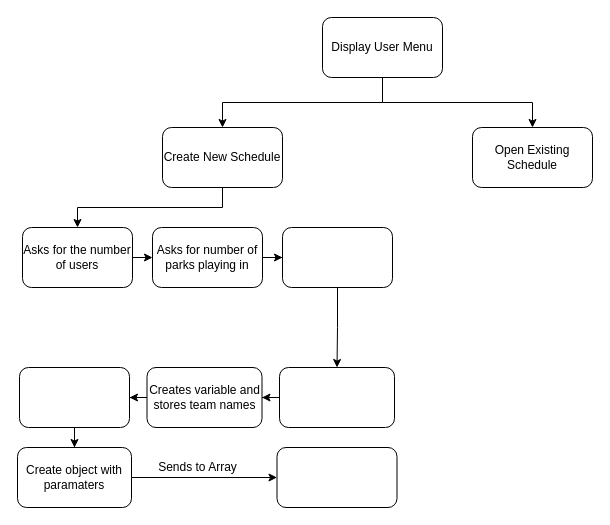
Image size: 610x525. Some labels were removed from this diagram. Each missing label, with the centre of its shape:
"Array of number of teams." goes at pixel 336 477.
"Asks for a file name" goes at pixel 337 257.
"Creates variable to store paramaters" goes at pixel 74 397.
"Loop 1 Loops for number of teams input" goes at pixel 336 397.
